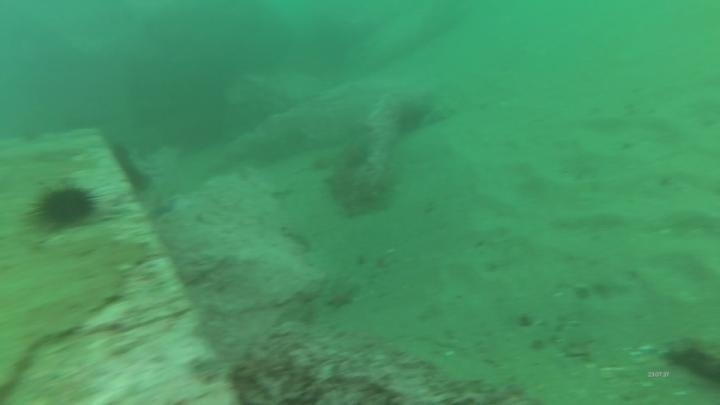echinus: (28, 178, 101, 235), (390, 97, 433, 139)
starfish: (322, 278, 362, 312)
